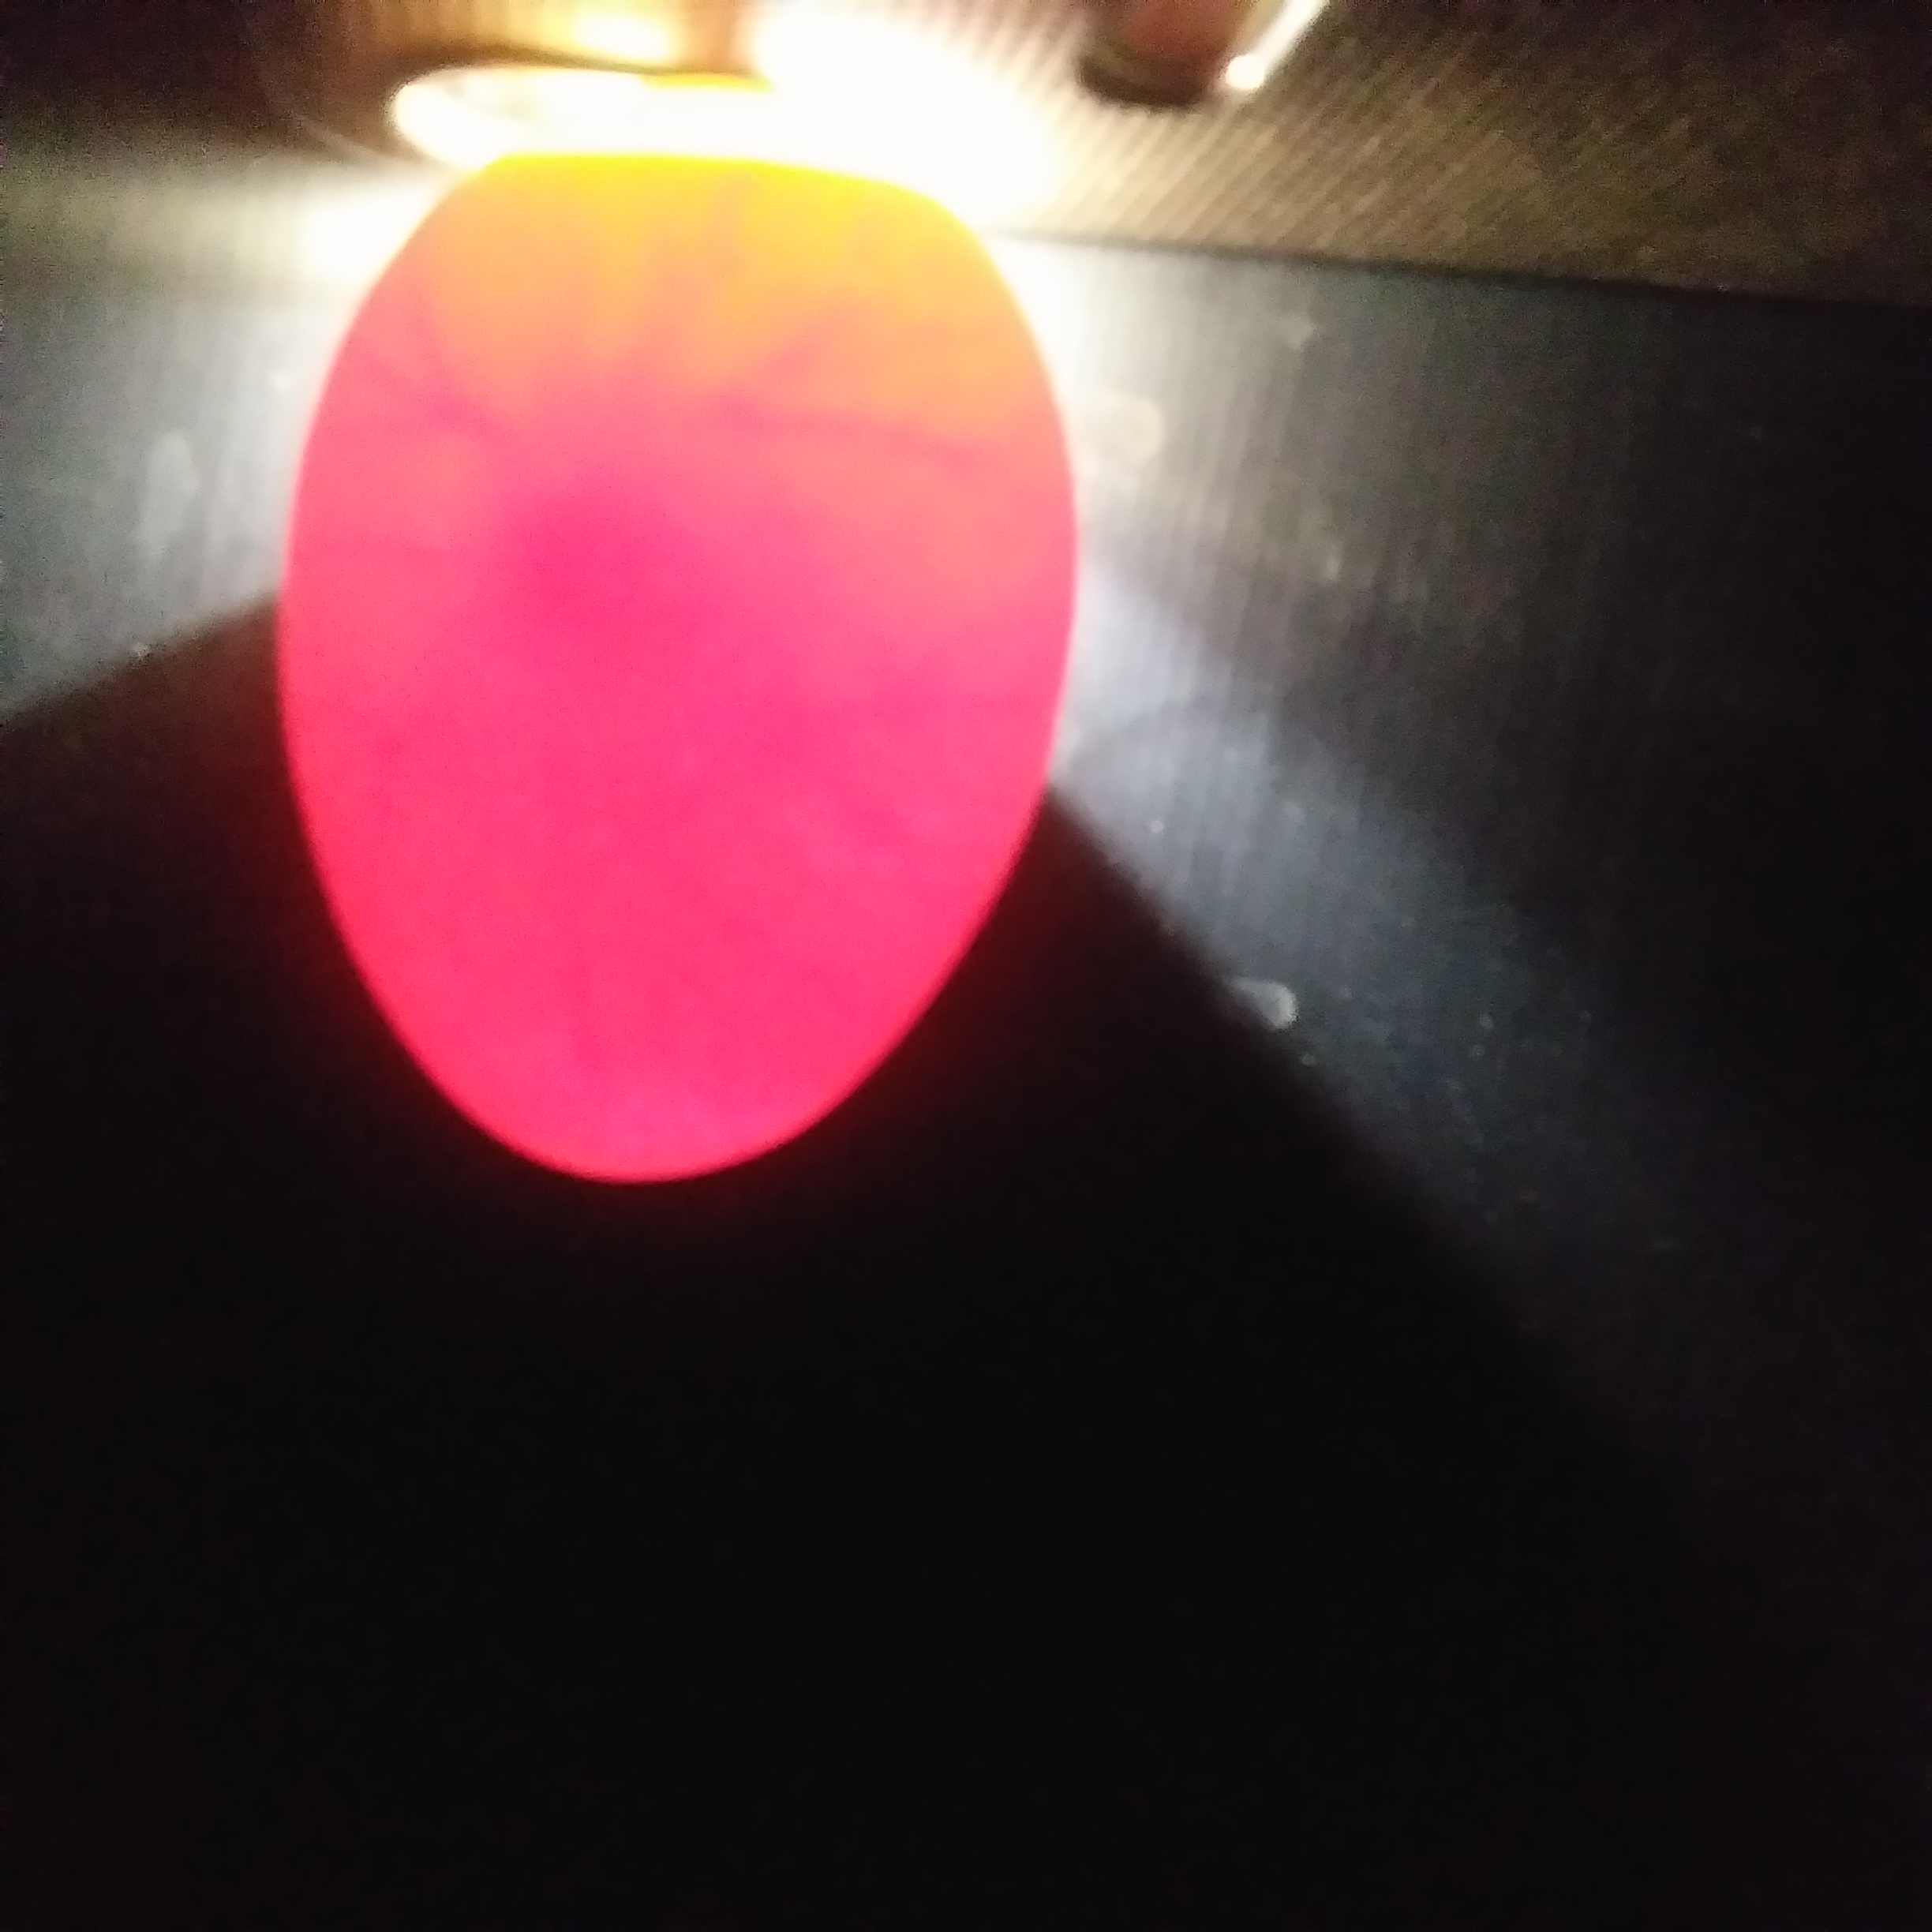bloodcell: (527, 251, 932, 425)
embryo: (531, 444, 708, 579)
